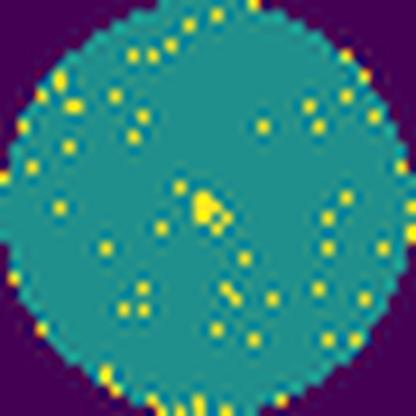Center: (181, 189, 243, 246)
